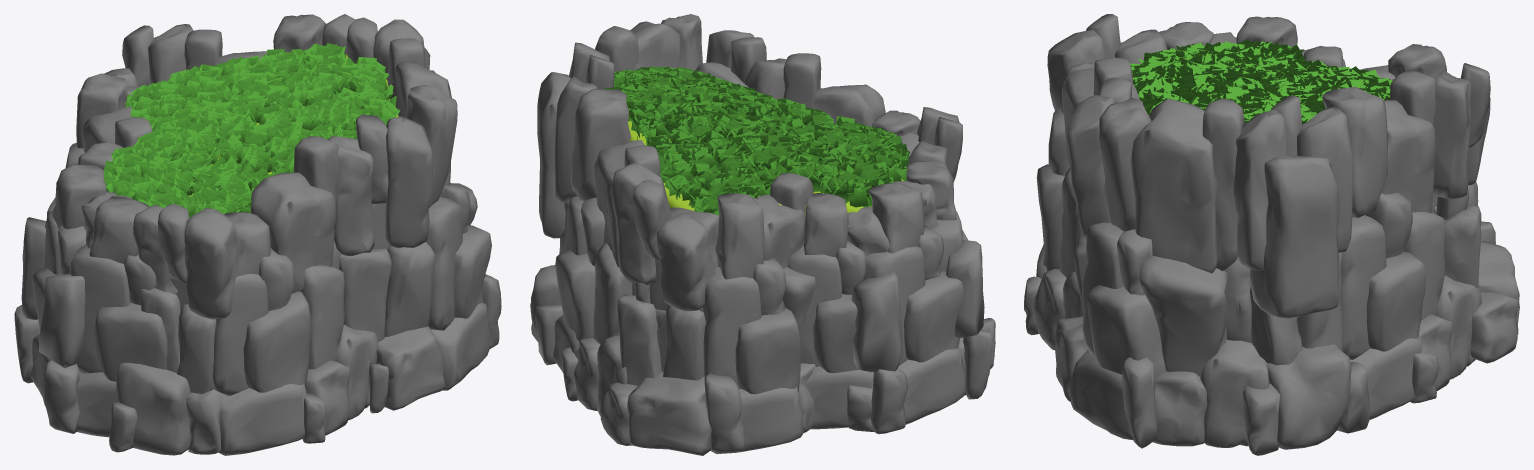
Rendered from SM_cliff_nature_02.fbx.
3 renders of one model, left to right at view 1: azimuth 30°, elevation 25°; view 2: azimuth 150°, elevation 25°; view 3: azimuth 270°, elevation 25°, orthographic. The views are drawn at different scales.
Visible parts, largest first — view 1: Object3427799; view 2: Object3427799; view 3: Object3427799.
Boxes of the visible parts, x1=… form: Object3427799: x1=14, y1=14, x2=501, y2=455; Object3427799: x1=530, y1=14, x2=995, y2=455; Object3427799: x1=1024, y1=14, x2=1519, y2=455.
Bounding box in the file's own units: 862 × 567 × 782.
